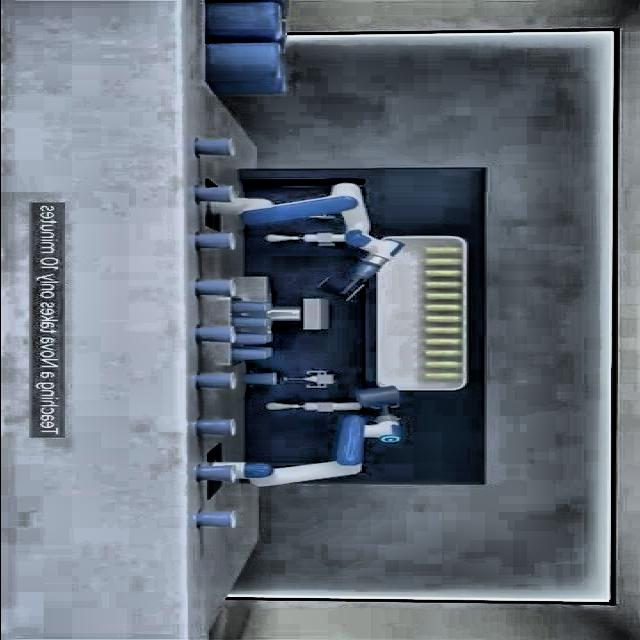robot: (208, 182, 407, 302), (238, 386, 404, 489)
